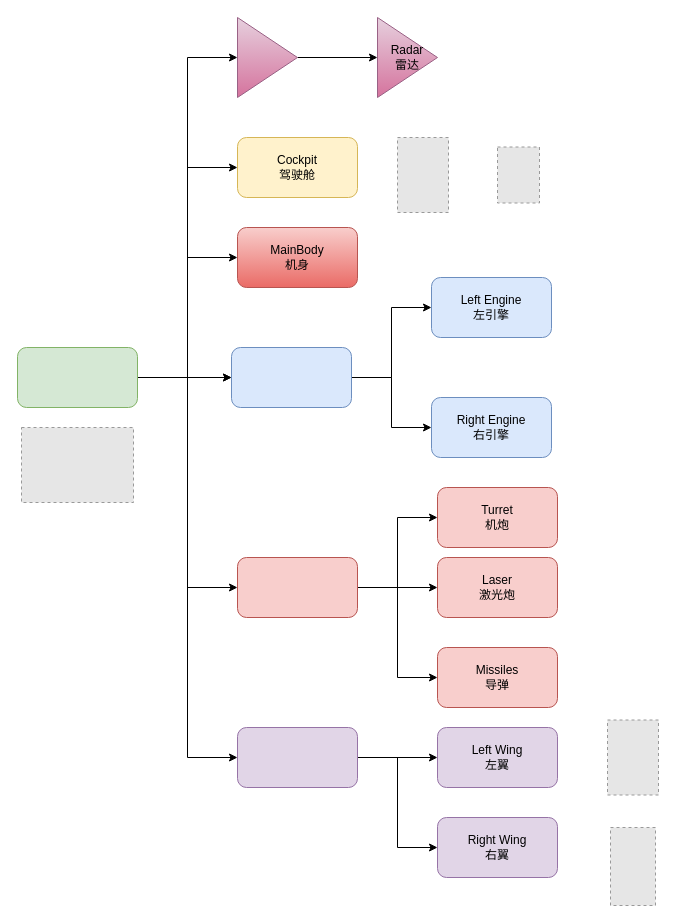
The diagram is 676 pixels wide and 923 high, and some of its shapes have lost their labels. Grey dashed boxes stand in for pictures. Here are the shapes that lost their labels. From the top down, the centre of each, then its label:
At (x=267, y=57): "Nose 机头".
At (x=77, y=377): "Spaceship 宇宙飞船".
At (x=291, y=377): "Engines 引擎".
At (x=297, y=587): "Weapons 武器".
At (x=297, y=757): "Wings 机翼".
